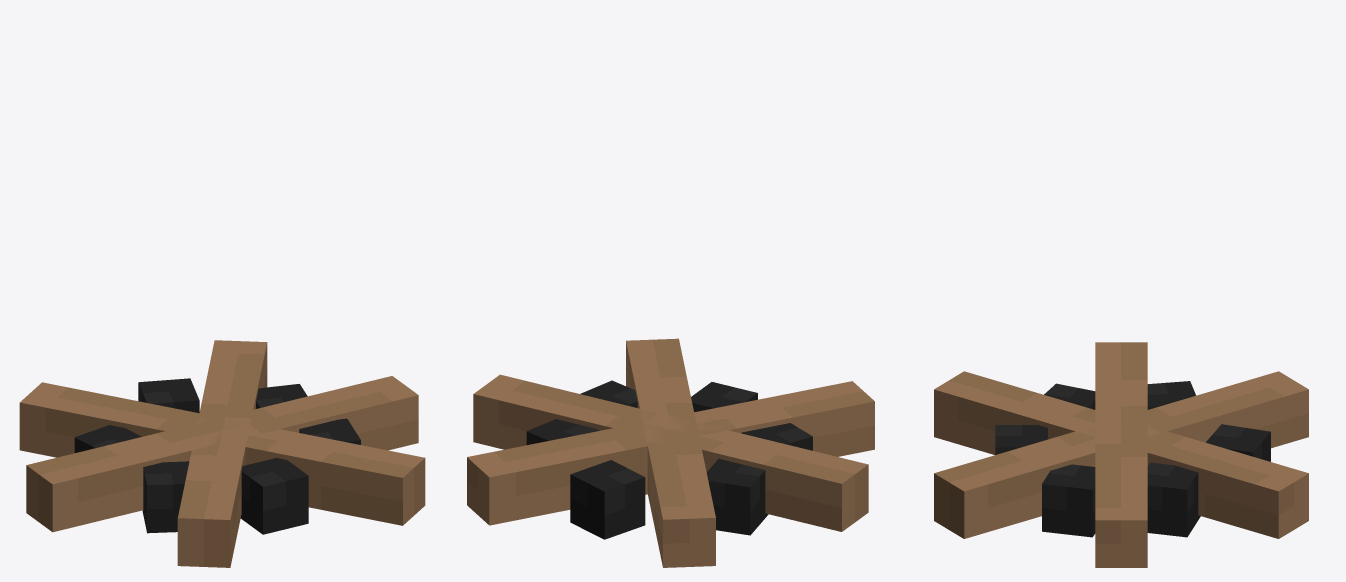
Rendered from campfire.obj.
3 renders of one model, left to right at view 1: azimuth 30°, elevation 25°; view 2: azimuth 150°, elevation 25°; view 3: azimuth 270°, elevation 25°, orthographic.
Parts seen in each view (by area): view 1: Cube_Cube.001; view 2: Cube_Cube.001; view 3: Cube_Cube.001.
Part boxes in pixels (bbox=[...]): Cube_Cube.001: bbox=[19, 340, 425, 567]; Cube_Cube.001: bbox=[467, 338, 874, 567]; Cube_Cube.001: bbox=[934, 342, 1308, 567].
Size of the model in its own units: 0.8 by 0.81 by 0.8.
